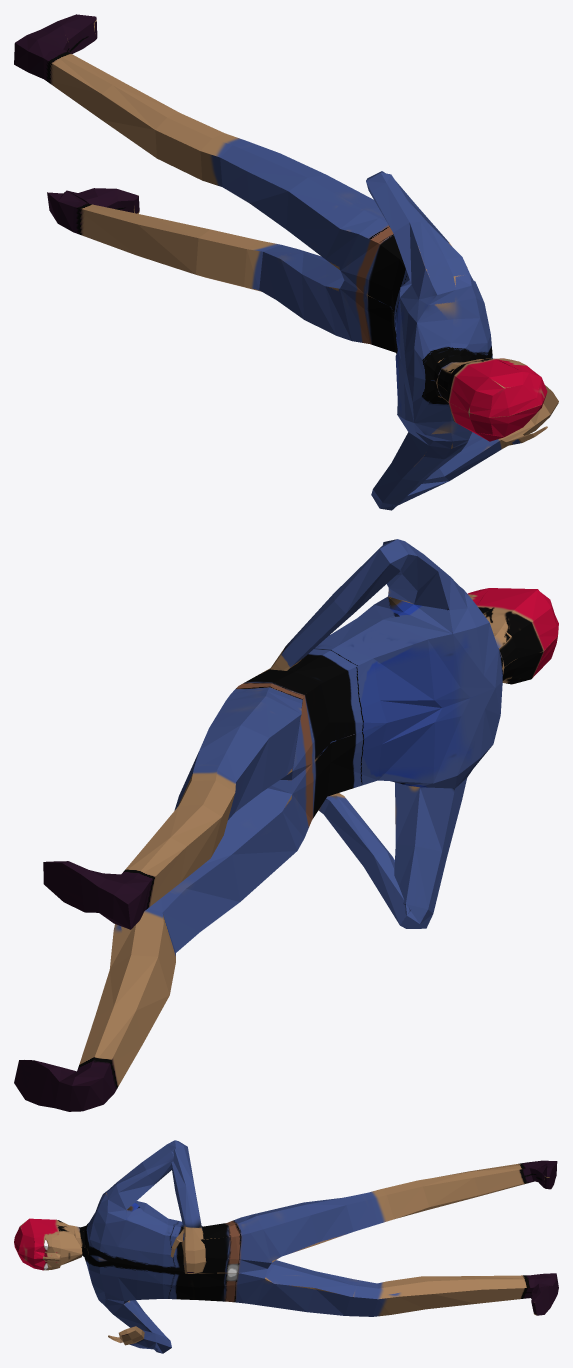
File: mirrorman_000017.obj
3 views of the same model, one above another, from view 1: azimuth 30°, elevation 25°; view 2: azimuth 150°, elevation 25°; view 3: azimuth 270°, elevation 25° (orthographic). The views are drawn at different scales.
Parts seen in each view (by area): view 1: mirrorman_Cube.001_Material.001; view 2: mirrorman_Cube.001_Material.001; view 3: mirrorman_Cube.001_Material.001.
Boxes of the visible parts, box(x1,y1,x2,y2) form: mirrorman_Cube.001_Material.001: box(14, 14, 558, 510); mirrorman_Cube.001_Material.001: box(14, 539, 558, 1111); mirrorman_Cube.001_Material.001: box(14, 1140, 558, 1353).
Size of the model in its own units: 0.5389 by 0.7981 by 1.85.
Materials: 1 (1 with a texture image).
